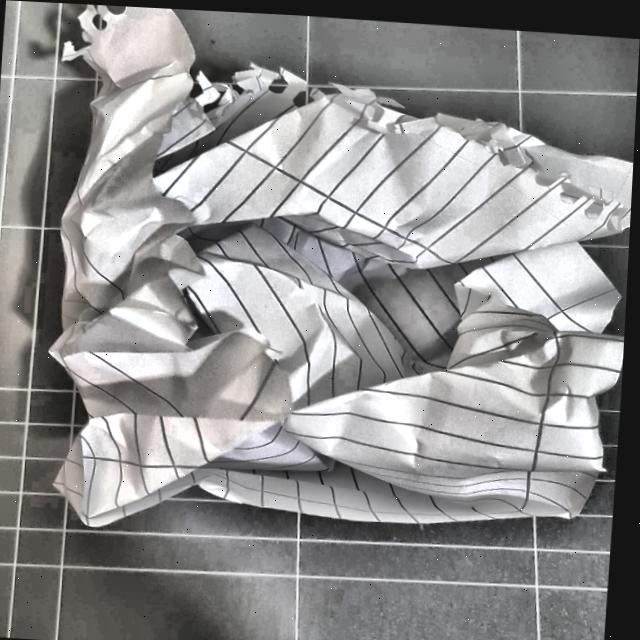paper: (24, 2, 640, 563)
